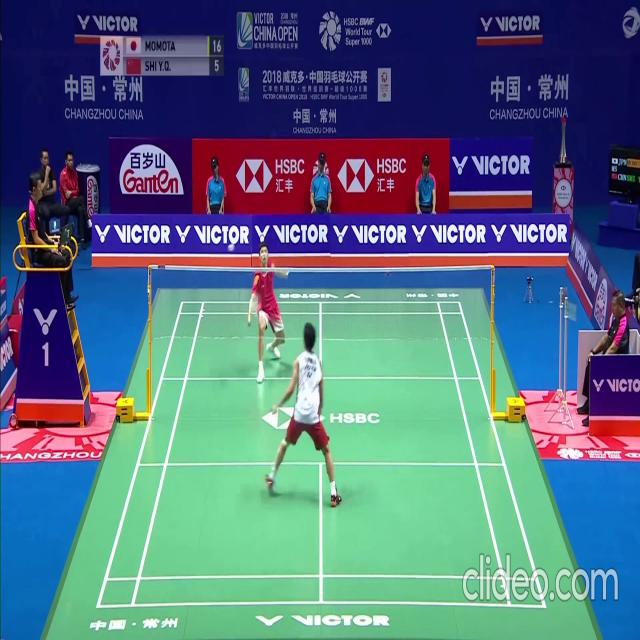Shuttlecock: (227, 245, 231, 252)
